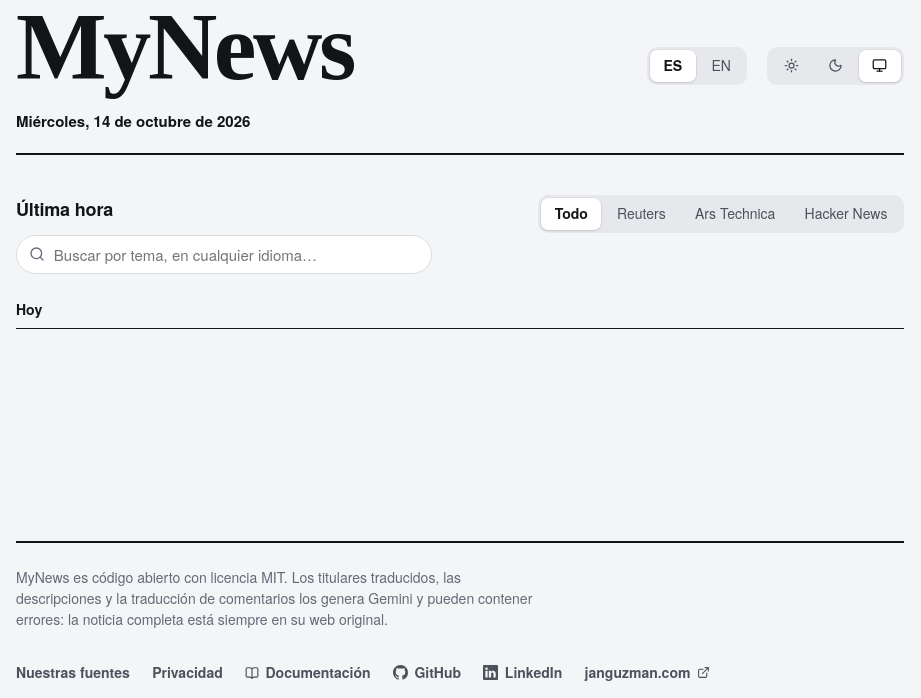
Test: App › searches by meaning and goes back to the timeline when cleared
In the search field named "Buscar noticias": (224, 254) [16,235,432,274], type "elecciones"
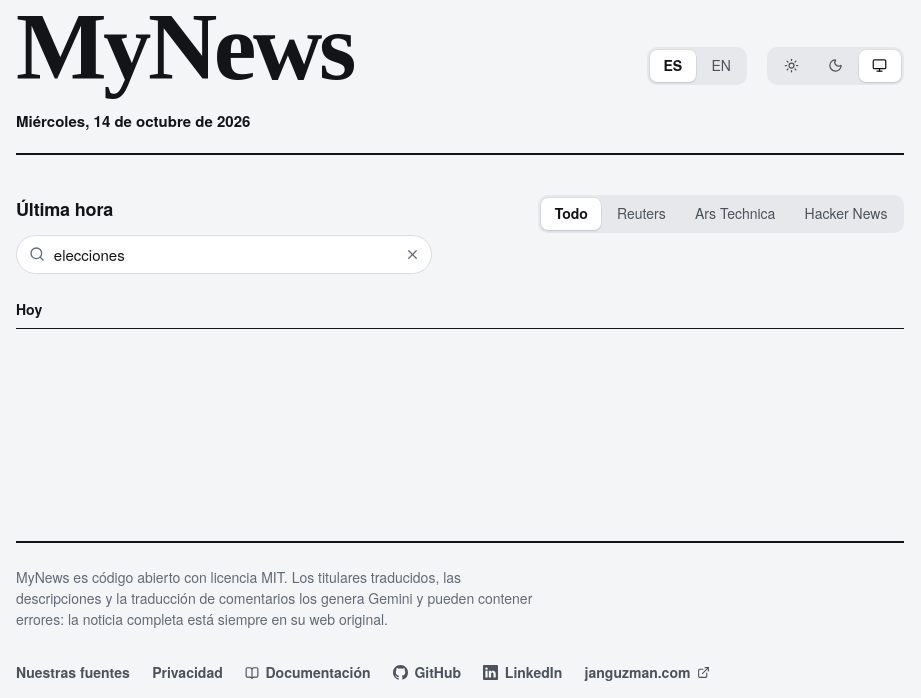
Submit the form named "Buscar noticias", box [16,235,432,274]
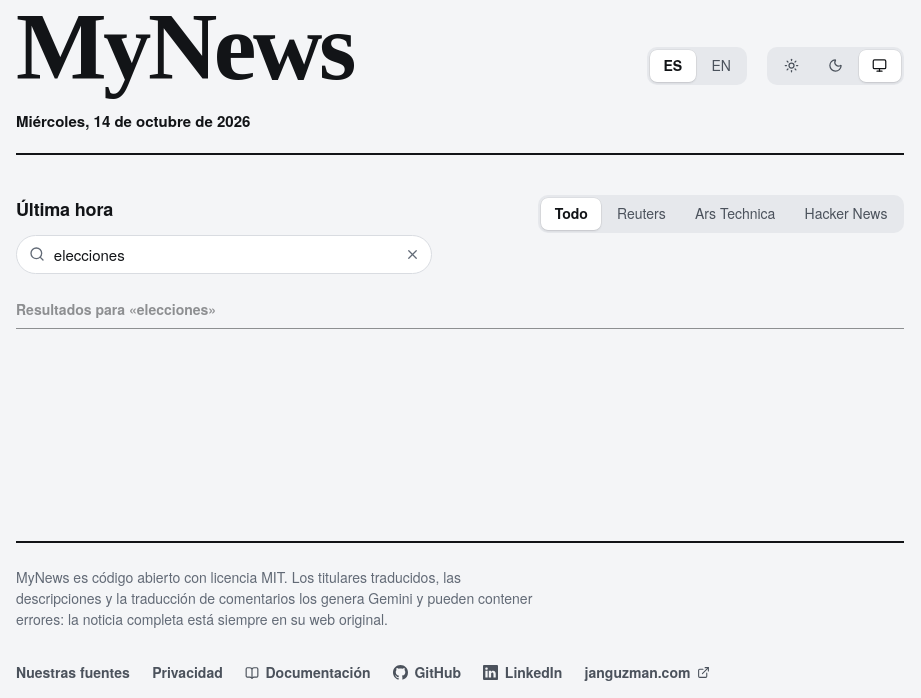
Expected: the link "Sale Rust 2.0" is not shown
Now the heading "Resultados para «elecciones»" is shown, box [16,291,904,329]
Click the button named "Borrar la búsqueda": (412, 254) [398,240,426,269]
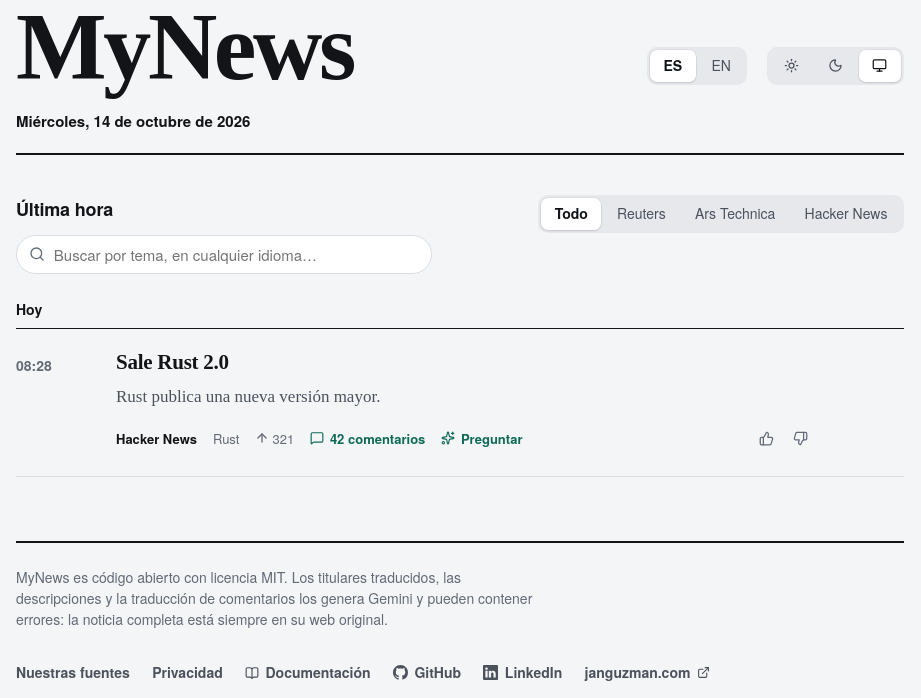
Now the link "Sale Rust 2.0" is shown, box [116,350,229,374]
